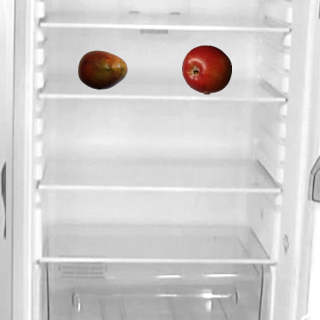Apple Braeburn: (181, 44, 231, 94)
Mango Red: (77, 44, 127, 94)
